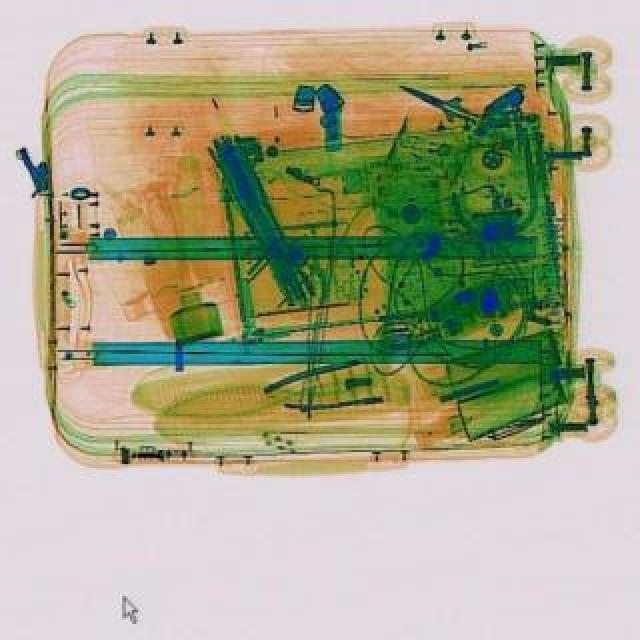knife: (390, 70, 482, 130)
